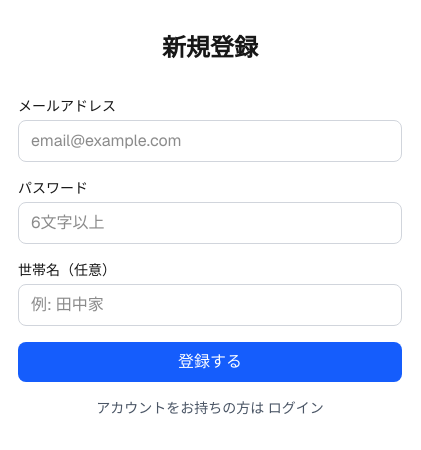
SignupPage › displays error when user is null after signup
This screenshot has width=421, height=450.
Step 1. Type "test@example.com" into the field labelled "メールアドレス" → (210, 141), box [18,120,402,162]
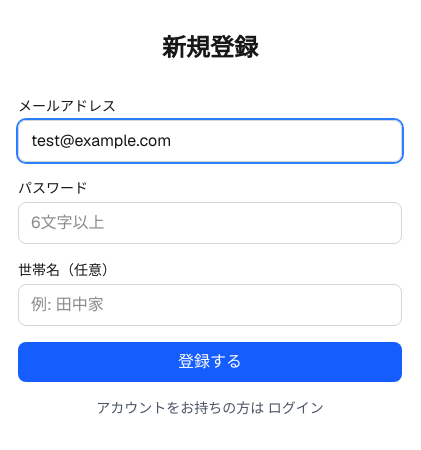
Step 2. Type "password123" into the password field labelled "パスワード" → (210, 223), box [18,202,402,244]
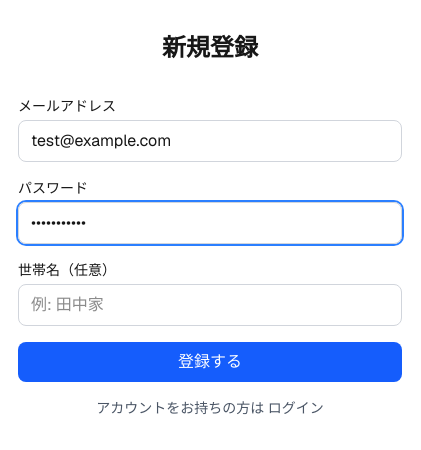
Step 3. Click the button "登録する" → (210, 362), box [18,342,402,382]
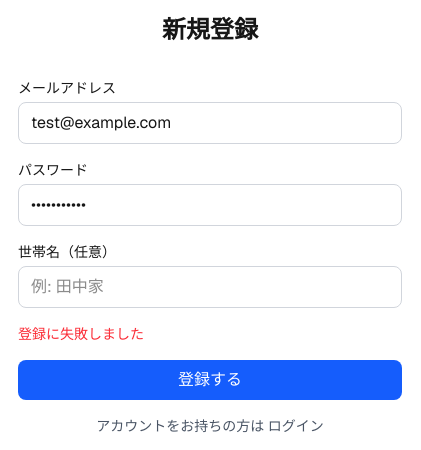
Expected: the text "登録に失敗しました" is shown, [18,325,144,343]
